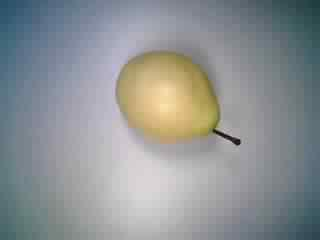pear: (104, 39, 251, 161)
